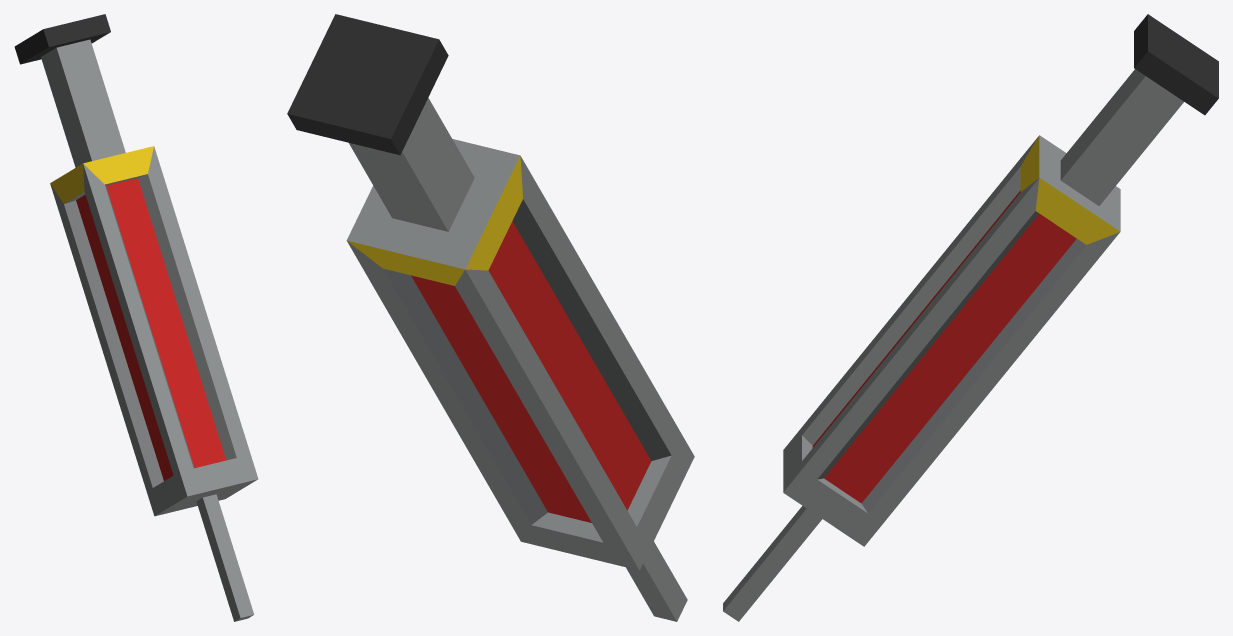
The model's file is Syringe_blood.fbx.
3 renders of one model, left to right at view 1: azimuth 30°, elevation 25°; view 2: azimuth 150°, elevation 25°; view 3: azimuth 270°, elevation 25°, orthographic. The views are drawn at different scales.
Visible parts, largest first — view 1: Cube; view 2: Cube; view 3: Cube.
Part boxes in pixels (left/top/right/bottom): Cube: left=14, top=14, right=258, bottom=621; Cube: left=287, top=14, right=694, bottom=621; Cube: left=723, top=14, right=1218, bottom=621.
Bounding box in the file's own units: 46.64 × 299 × 230.
